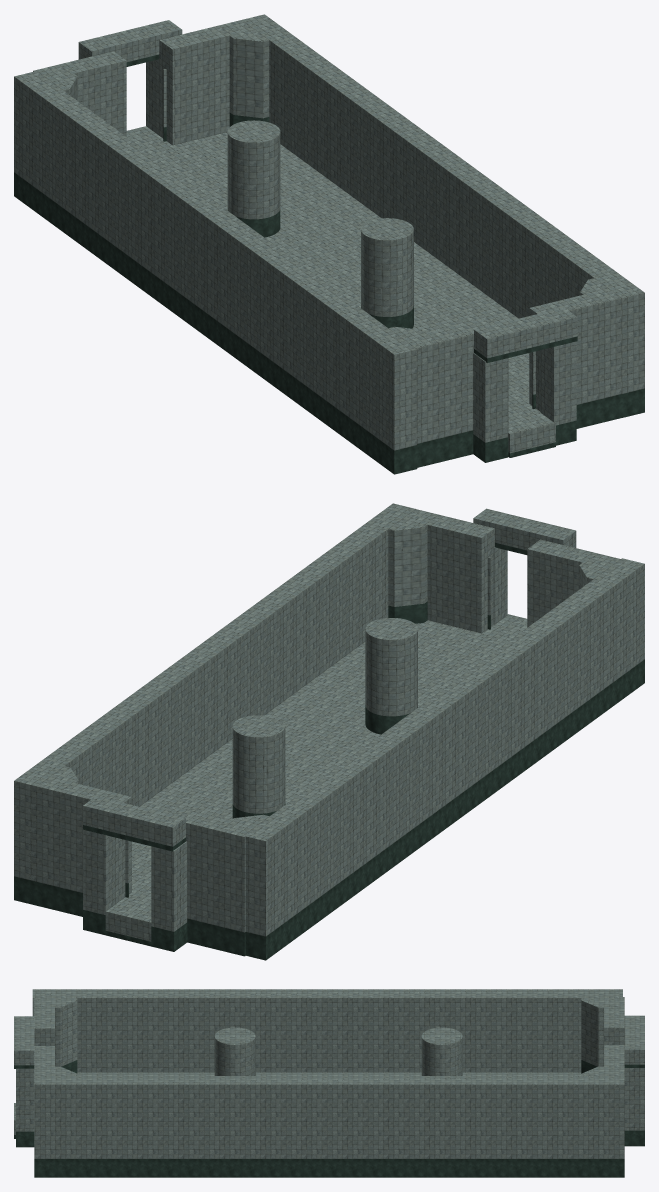
The model's file is hallbasic.glb.
3 views of the same model, one above another, from view 1: azimuth 30°, elevation 25°; view 2: azimuth 150°, elevation 25°; view 3: azimuth 270°, elevation 25° (orthographic). The views are drawn at different scales.
Visible parts, largest first — view 1: block (×14), block_corner_round_large (×4), block_corner_large; view 2: block (×14), block_corner_round_large (×4), block_corner_large; view 3: block (×11), block_corner_round_large (×4), block_corner_large (×2).
Part boxes in pixels (x1,y1,x2,y2): block (×14): (14, 14, 644, 474); block_corner_round_large (×4): (231, 126, 413, 328); block_corner_large: (229, 29, 269, 126); block (×14): (14, 503, 644, 960); block_corner_round_large (×4): (232, 623, 414, 818); block_corner_large: (388, 518, 427, 623); block (×11): (14, 989, 644, 1177); block_corner_round_large (×4): (214, 1036, 462, 1075); block_corner_large (×2): (55, 998, 603, 1073).
Size of the model in its own units: 11 by 5.2 by 30.79.
58 materials, 58 textured.
